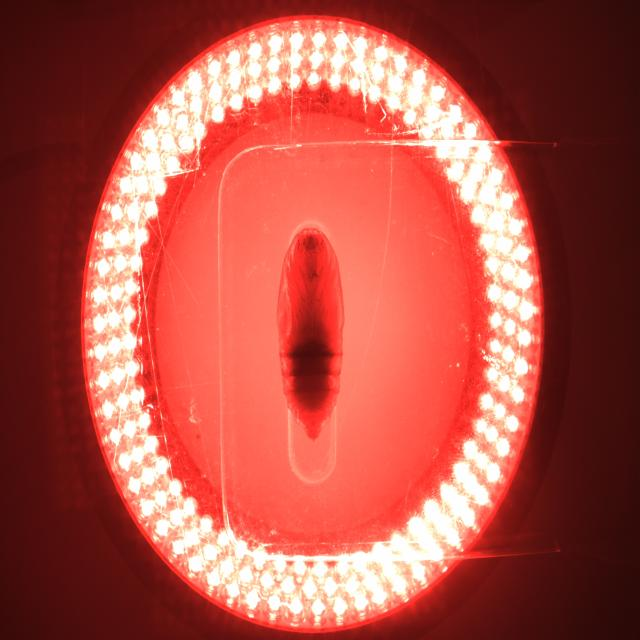female: (309, 420, 317, 428)
